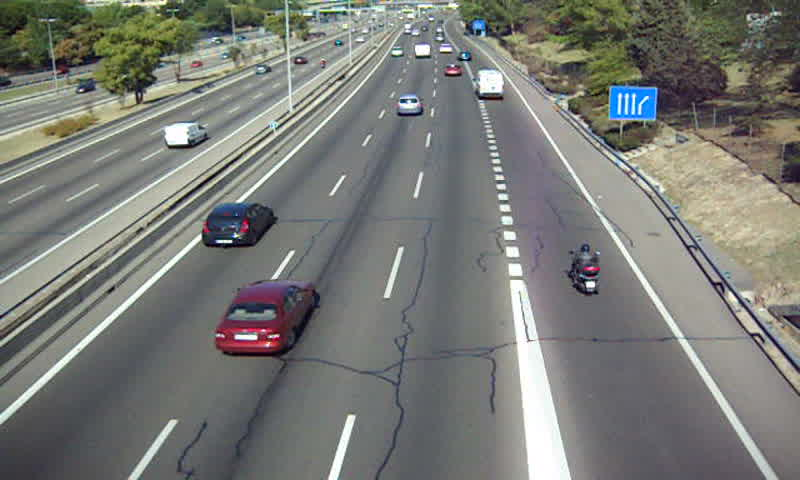car: (213, 279, 315, 354), (202, 204, 273, 245), (394, 93, 422, 117), (442, 63, 462, 76), (457, 50, 473, 62), (438, 42, 453, 54), (390, 46, 403, 58)
motorcycle: (568, 243, 602, 297)
van: (476, 69, 505, 100), (412, 43, 429, 58)
